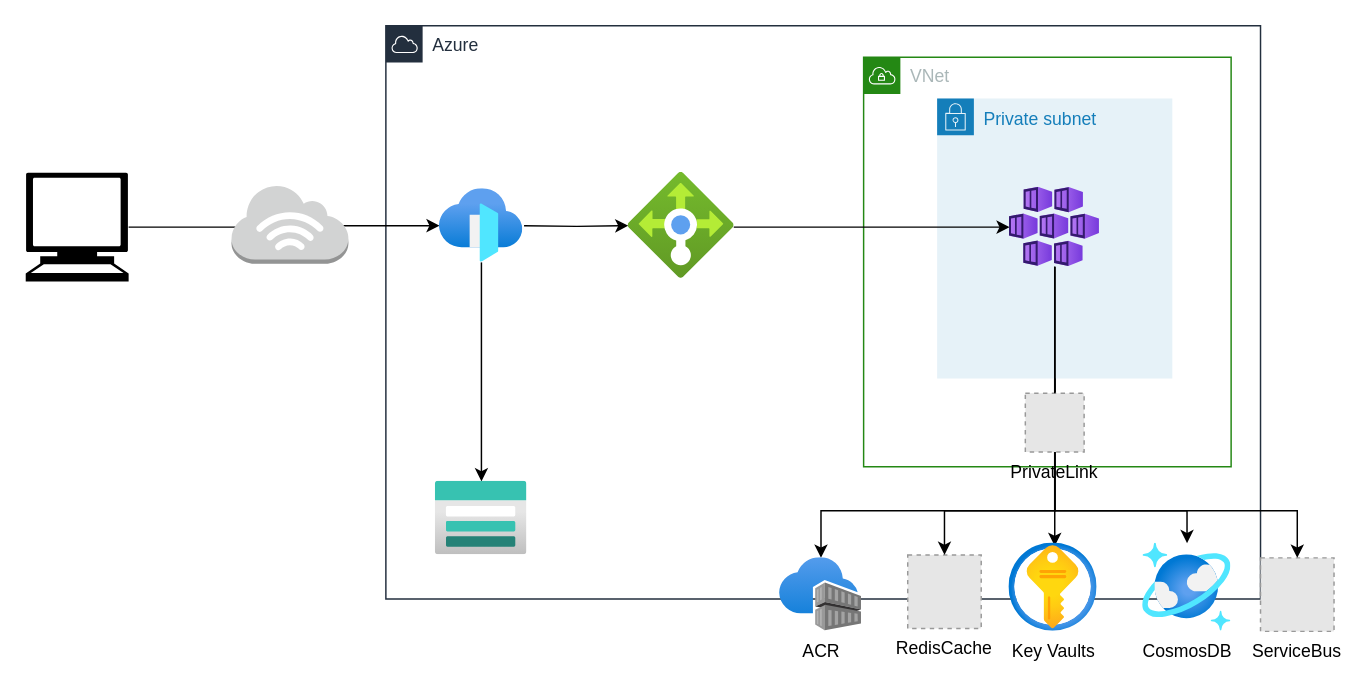
Some shapes in this 1367 by 688 pixel diagram are drawn without their labels. Grey dashed boxes stand in for pictures. The shapes that lost their labels are listed below. From the top down, each one's centre as x and y in pixels, then its label:
At (289,223): "Internet".
At (480,225): "FrontDoor".
At (681,225): "LB (Istio Ingress gw)".
At (1054,226): "AKS".
At (481,517): "Storage Accounts".
